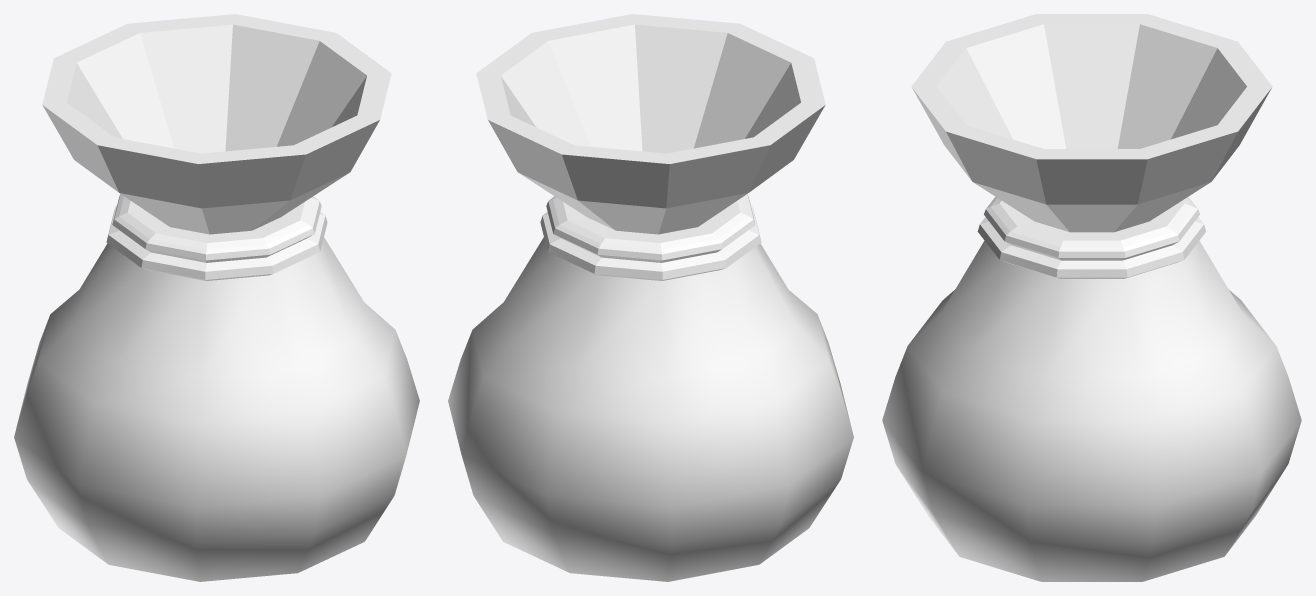
The model's file is Seed_packet.FBX.
The picture shows the model from 3 angles, left to right: view 1: azimuth 30°, elevation 25°; view 2: azimuth 150°, elevation 25°; view 3: azimuth 270°, elevation 25°; orthographic projection.
Visible parts, largest first — view 1: Tui_hat_giong; view 2: Tui_hat_giong; view 3: Tui_hat_giong.
Boxes of the visible parts, x1,y1,x2,y2 form: Tui_hat_giong: [14, 14, 419, 581]; Tui_hat_giong: [448, 14, 853, 581]; Tui_hat_giong: [882, 14, 1301, 581].
Size of the model in its own units: 0.3008 by 0.3752 by 0.3162.
